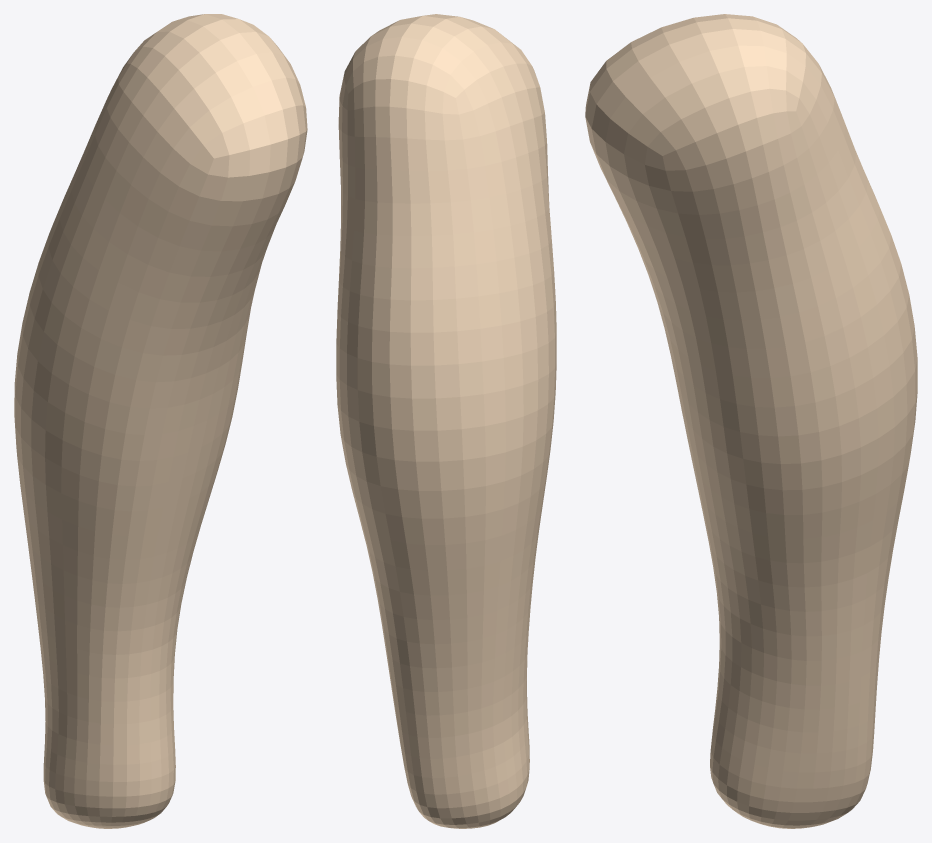
Rendered from RightShin.fbx.
3 renders of one model, left to right at view 1: azimuth 30°, elevation 25°; view 2: azimuth 150°, elevation 25°; view 3: azimuth 270°, elevation 25°, orthographic. The views are drawn at different scales.
Parts seen in each view (by area): view 1: RightShin; view 2: RightShin; view 3: RightShin.
Part boxes in pixels (x1=…): RightShin: x1=14, y1=14, x2=307, y2=828; RightShin: x1=336, y1=14, x2=556, y2=828; RightShin: x1=585, y1=14, x2=917, y2=828.
Size of the model in its own units: 0.1294 by 0.4356 by 0.1571.
